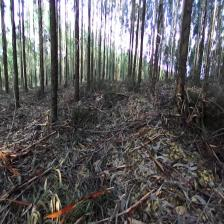trunk: (176, 9, 191, 92), (48, 5, 57, 121), (150, 12, 162, 94), (12, 27, 20, 106), (137, 13, 145, 88), (1, 20, 9, 92), (74, 9, 79, 103), (38, 13, 44, 91), (132, 16, 139, 80), (22, 18, 28, 92), (86, 19, 91, 89)
